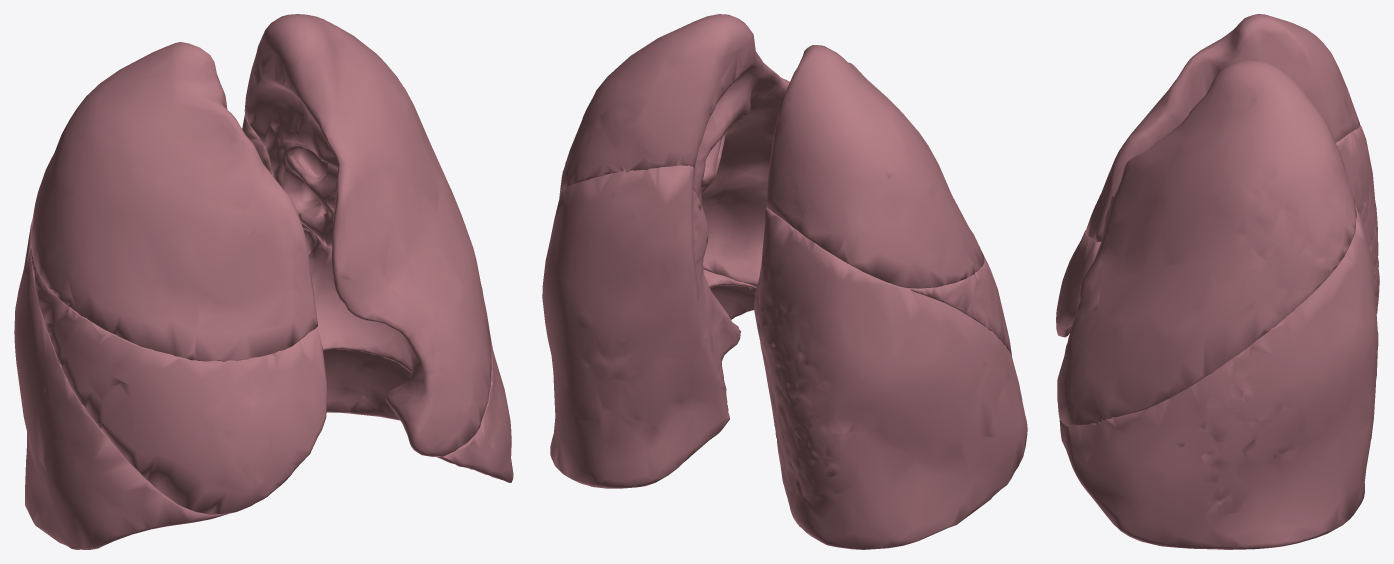
Rendered from pulmones-regiones.glb.
3 renders of one model, left to right at view 1: azimuth 30°, elevation 25°; view 2: azimuth 150°, elevation 25°; view 3: azimuth 270°, elevation 25°, orthographic. The views are drawn at different scales.
Parts seen in each view (by area): view 1: lungs__superior_derecho, lungs__superior_izquierdo, lungs__medio_derecho, lungs__inferior_derecho, lungs__inferior_izquierdo; view 2: lungs__inferior_derecho, lungs__inferior_izquierdo, lungs__superior_derecho, lungs__superior_izquierdo, lungs__medio_derecho; view 3: lungs__superior_izquierdo, lungs__inferior_izquierdo, lungs__superior_derecho, lungs__inferior_derecho, lungs__medio_derecho.
Part boxes in pixels (bbox=[...]): lungs__superior_derecho: bbox=[30, 42, 316, 376]; lungs__superior_izquierdo: bbox=[244, 14, 491, 456]; lungs__medio_derecho: bbox=[67, 305, 327, 514]; lungs__inferior_derecho: bbox=[14, 220, 228, 549]; lungs__inferior_izquierdo: bbox=[242, 113, 513, 482]; lungs__inferior_derecho: bbox=[754, 207, 1027, 549]; lungs__inferior_izquierdo: bbox=[542, 165, 756, 488]; lungs__superior_derecho: bbox=[766, 45, 992, 331]; lungs__superior_izquierdo: bbox=[559, 14, 789, 286]; lungs__medio_derecho: bbox=[976, 240, 1011, 355]; lungs__superior_izquierdo: bbox=[1057, 59, 1356, 425]; lungs__inferior_izquierdo: bbox=[1059, 204, 1378, 549]; lungs__superior_derecho: bbox=[1091, 14, 1359, 241]; lungs__inferior_derecho: bbox=[1336, 125, 1379, 313]; lungs__medio_derecho: bbox=[1056, 213, 1100, 337].
Bounding box in the file's own units: 0.2534 × 0.2587 × 0.181.
